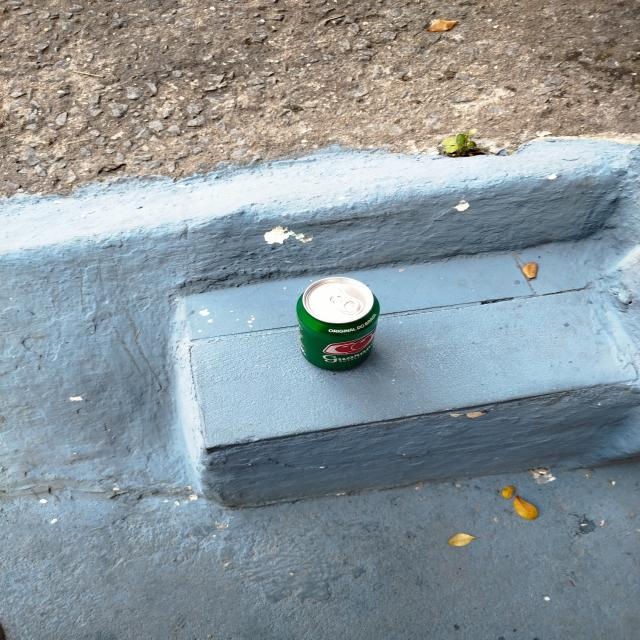Guarana: (294, 276, 382, 370)
